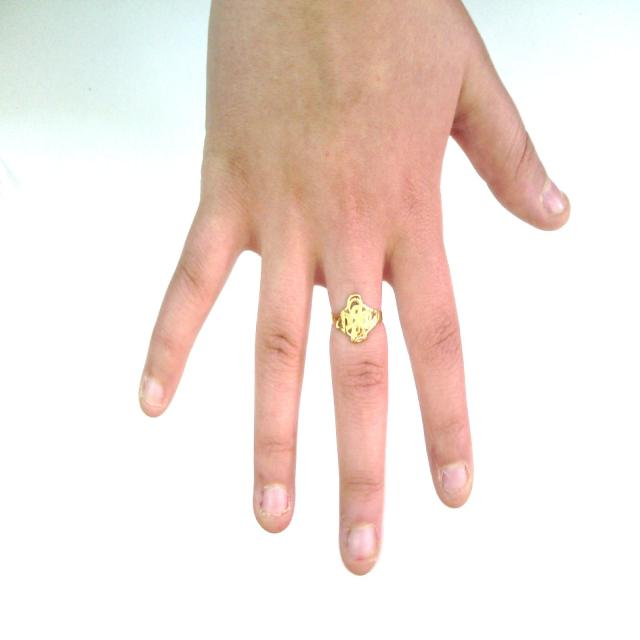hand: (156, 3, 555, 572)
